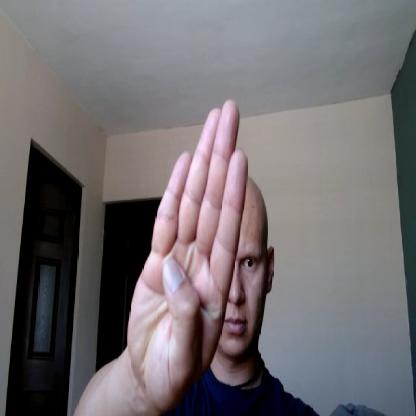B: (126, 98, 246, 406)
